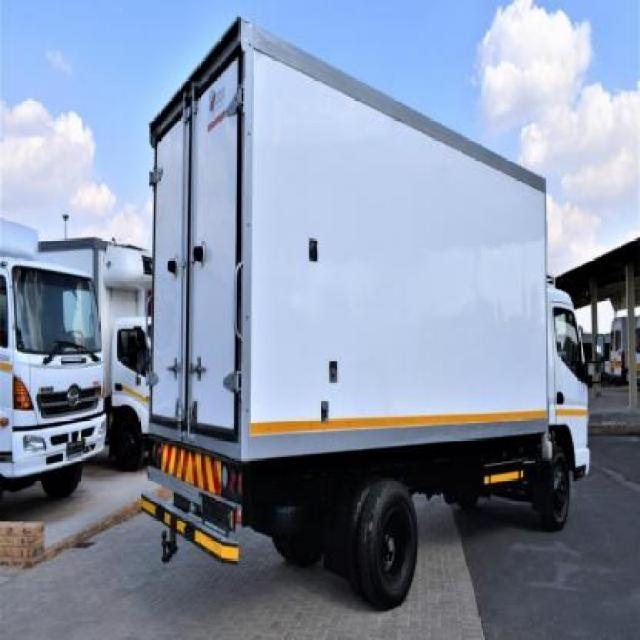truck: (140, 24, 594, 607), (1, 220, 110, 497)
